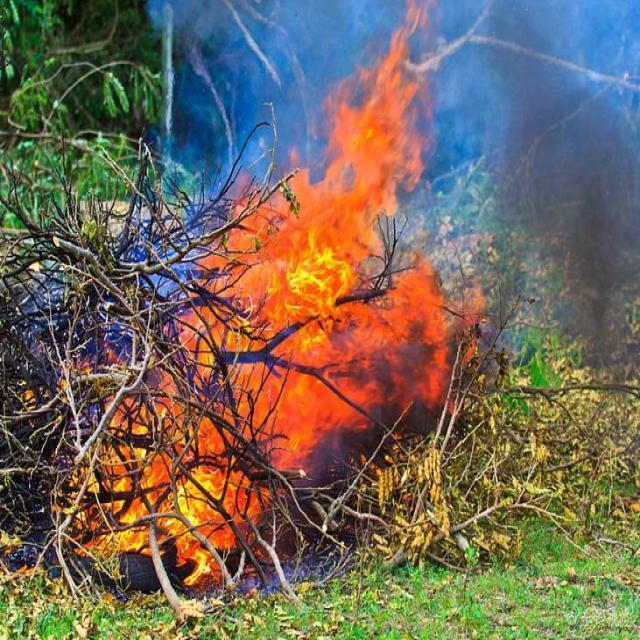fire: (241, 50, 446, 467), (84, 414, 251, 584)
